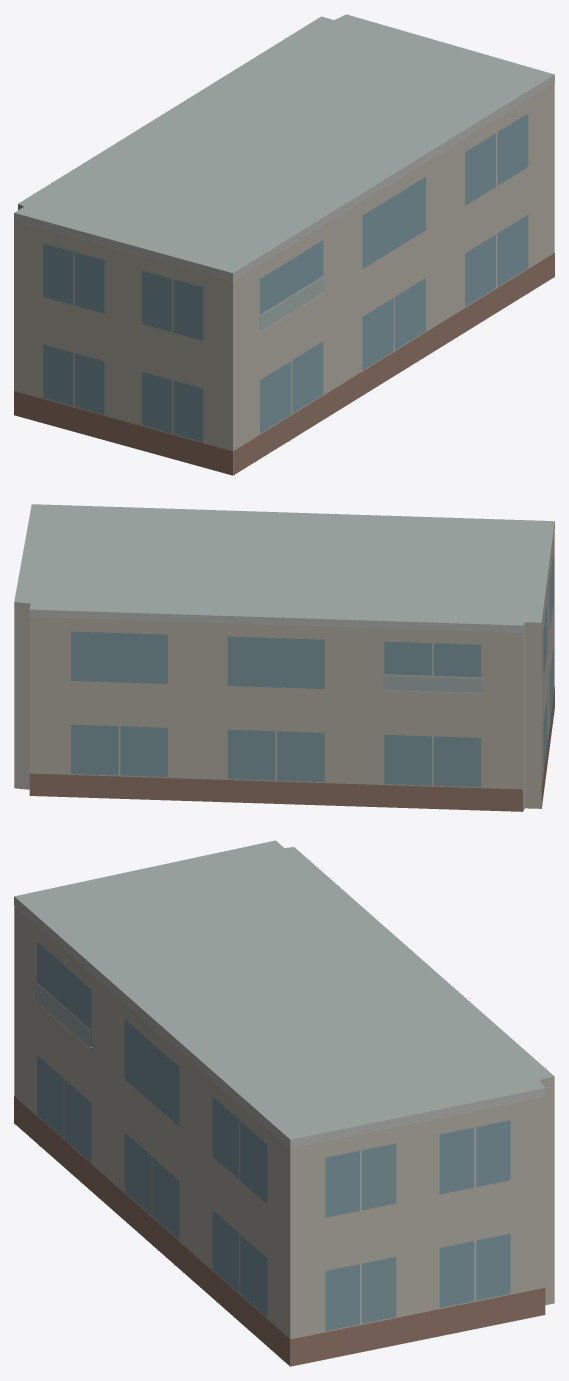
Rendered from survey-upis-32724078.glb.
The picture shows the model from 3 angles, top to bottom: view 1: azimuth 30°, elevation 25°; view 2: azimuth 150°, elevation 25°; view 3: azimuth 270°, elevation 25°; orthographic projection. The views are drawn at different scales.
Visible parts, largest first — view 1: survey-upis-32724078.tmp; view 2: survey-upis-32724078.tmp; view 3: survey-upis-32724078.tmp.
Boxes of the visible parts, <box> form: survey-upis-32724078.tmp: <box>14,14,554,475</box>; survey-upis-32724078.tmp: <box>14,504,554,811</box>; survey-upis-32724078.tmp: <box>14,840,554,1366</box>.
Bounding box in the file's own units: 17.28 × 6.1 × 13.19.
